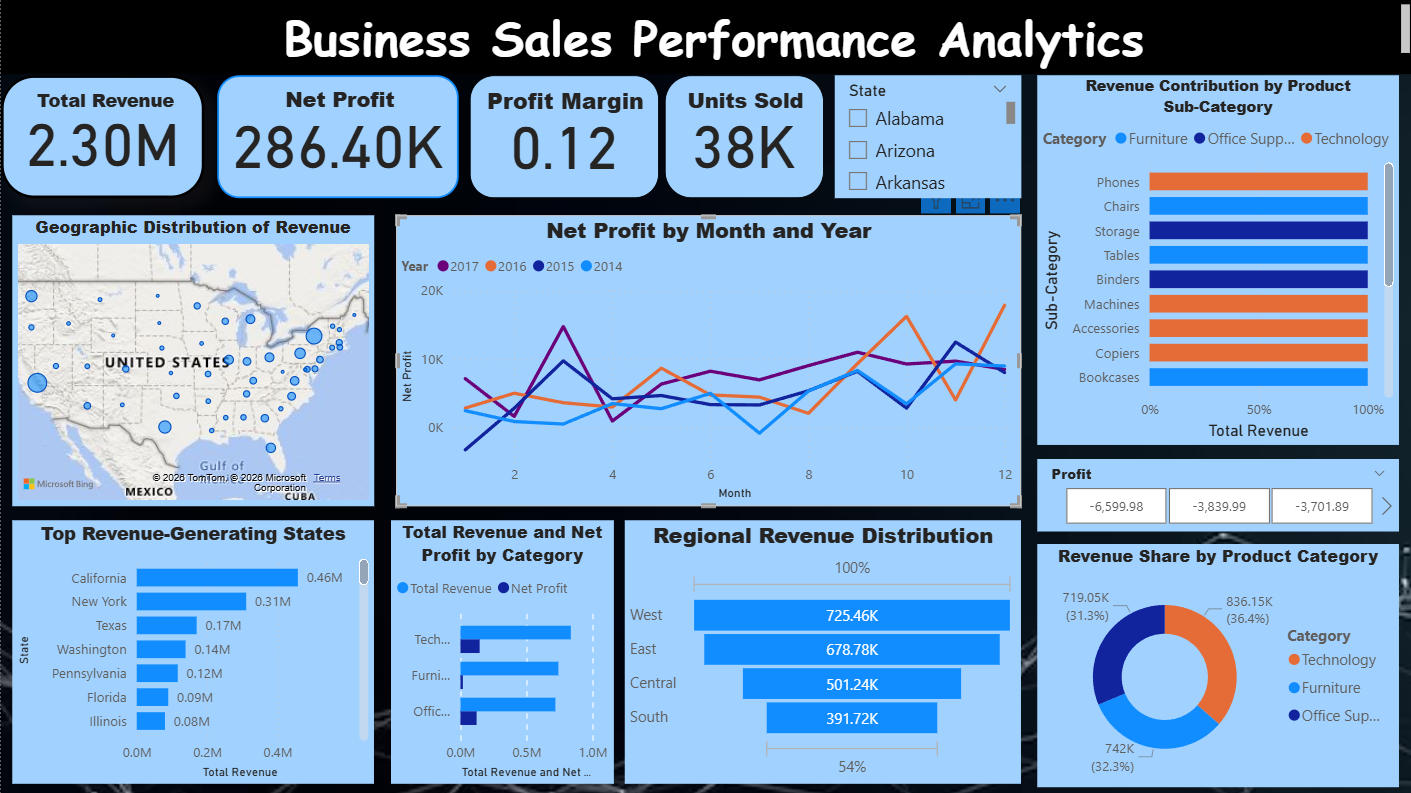

What the dashboard file says about the page in this screenshot:
{"tool":"powerbi","page":{"name":"Page 1","canvas":[1280,720],"ordinal":0},"visuals":[{"type":"textbox","box":[0,0,1279.7,68.4],"z":0},{"type":"card","title":"Total Revenue","fields":{"Values":["Sample - Superstore.Total Revenue"]},"box":[0,68.6,184.3,111.4],"z":1000},{"type":"card","title":"Net Profit","fields":{"Values":["Sample - Superstore.Net Profit"]},"box":[195.7,68.6,218.6,111.4],"z":2000},{"type":"card","title":"Profit Margin","fields":{"Values":["Sample - Superstore.Profit Margin"]},"box":[424.3,68.6,171.4,111.4],"z":3000},{"type":"card","title":"Units Sold","fields":{"Values":["Sample - Superstore.Units Sold"]},"box":[600,68.6,144.3,111.4],"z":4000},{"type":"hundredPercentStackedBarChart","title":"Revenue Contribution by Product Sub-Category","fields":{"Category":["Sample - Superstore.Sub-Category"],"Y":["Sample - Superstore.Total Revenue"],"Series":["Sample - Superstore.Category"]},"box":[937.1,68.6,327.1,334.3],"z":5000},{"type":"donutChart","title":"Revenue Share by Product Category","fields":{"Category":["Sample - Superstore.Category"],"Y":["Sample - Superstore.Total Revenue"]},"box":[937.1,492.9,327.1,220],"z":6000},{"type":"funnel","title":"Regional Revenue Distribution","fields":{"Category":["Sample - Superstore.Region"],"Y":["Sample - Superstore.Total Revenue"]},"box":[564.3,471.4,358.6,238.6],"z":7000},{"type":"map","title":"Geographic Distribution of Revenue","fields":{"Category":["Sample - Superstore.State"],"Size":["Sample - Superstore.Total Revenue"]},"box":[10,195.7,327.1,262.9],"z":8000},{"type":"barChart","title":"Top Revenue-Generating States","fields":{"Category":["Sample - Superstore.State"],"Y":["Sample - Superstore.Total Revenue"]},"box":[10,471.4,327.1,238.6],"z":9000},{"type":"slicer","fields":{"Values":["Sample - Superstore.Profit"]},"box":[937.1,415.7,327.1,65.7],"z":10000},{"type":"clusteredBarChart","fields":{"Y":["Sample - Superstore.Total Revenue","Sample - Superstore.Net Profit"],"Category":["Sample - Superstore.Category"]},"box":[352.9,471.4,201.4,238.6],"z":11000},{"type":"lineChart","fields":{"Series":["Sample - Superstore.Year"],"Y":["Sample - Superstore.Net Profit"],"Category":["Sample - Superstore.Month"]},"box":[357.1,195.7,565.7,262.9],"z":12000},{"type":"slicer","fields":{"Values":["Sample - Superstore.State"]},"box":[754.3,68.6,168.6,111.4],"z":12001}]}

Visuals, with their boxes in screenshot pixels (x1, y1, x2, y2), scaled from the page's 1280x720 canvas onto the 1411x793 screenshot:
textbox: <region>0, 0, 1410, 75</region>
"Total Revenue" card: <region>0, 76, 203, 198</region>
"Net Profit" card: <region>216, 76, 457, 198</region>
"Profit Margin" card: <region>468, 76, 657, 198</region>
"Units Sold" card: <region>661, 76, 820, 198</region>
"Revenue Contribution by Product Sub-Category" hundredPercentStackedBarChart: <region>1033, 76, 1394, 444</region>
"Revenue Share by Product Category" donutChart: <region>1033, 543, 1394, 785</region>
"Regional Revenue Distribution" funnel: <region>622, 519, 1017, 782</region>
"Geographic Distribution of Revenue" map: <region>11, 216, 372, 505</region>
"Top Revenue-Generating States" barChart: <region>11, 519, 372, 782</region>
slicer - Sample - Superstore.Profit: <region>1033, 458, 1394, 530</region>
clusteredBarChart - Sample - Superstore.Total Revenue x Sample - Superstore.Net Profit: <region>389, 519, 611, 782</region>
lineChart - Sample - Superstore.Year x Sample - Superstore.Net Profit: <region>394, 216, 1017, 505</region>
slicer - Sample - Superstore.State: <region>831, 76, 1017, 198</region>
